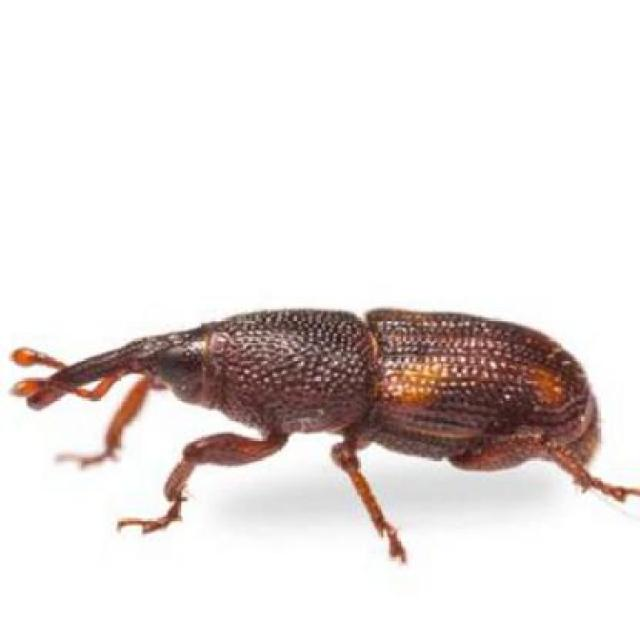rice-bug: (43, 299, 611, 530)
